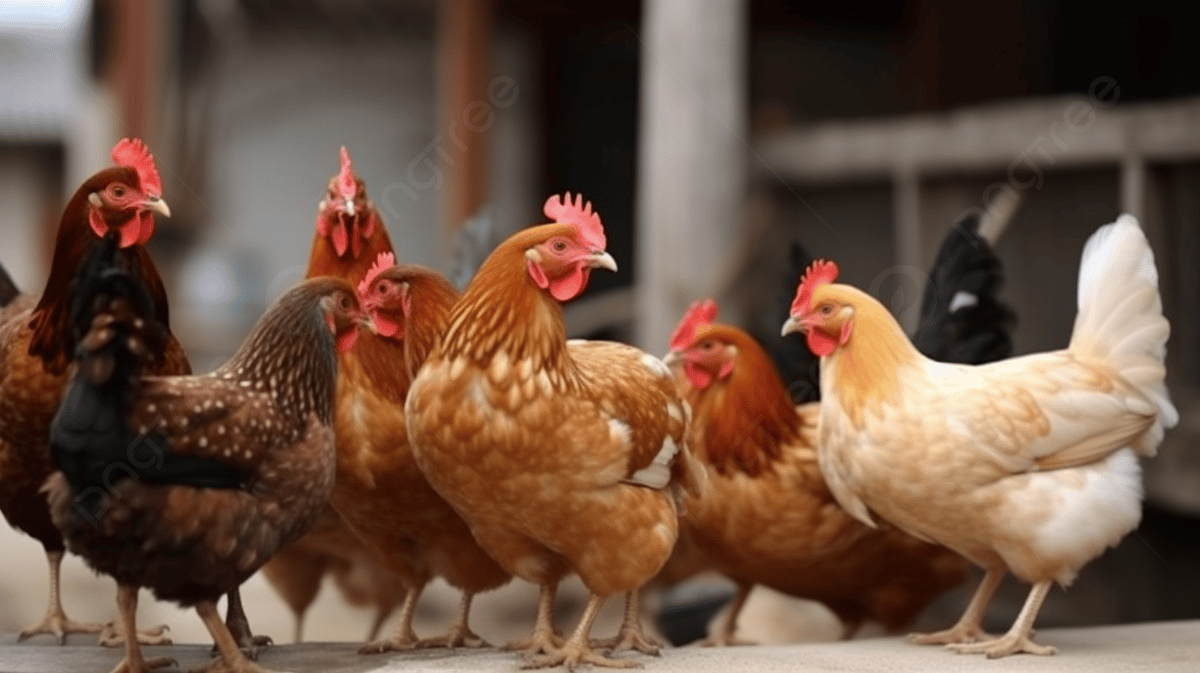Healthy: (774, 219, 1187, 670), (664, 223, 1025, 658), (395, 182, 707, 673), (52, 259, 378, 673), (286, 143, 510, 658), (1, 126, 198, 666)
